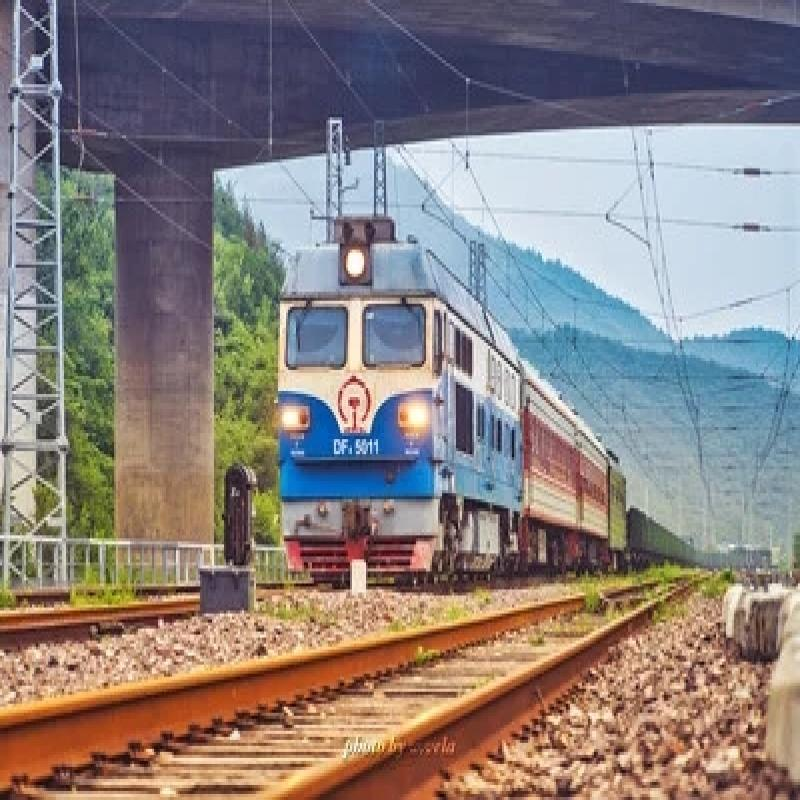train: (265, 209, 629, 585)
